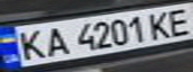0: (109, 16, 133, 46)
1: (127, 12, 151, 43)
2: (90, 17, 115, 51)
4: (72, 20, 96, 53)
A: (39, 24, 72, 57)
E: (160, 4, 193, 37)
K: (9, 26, 51, 62), (145, 8, 175, 39)
